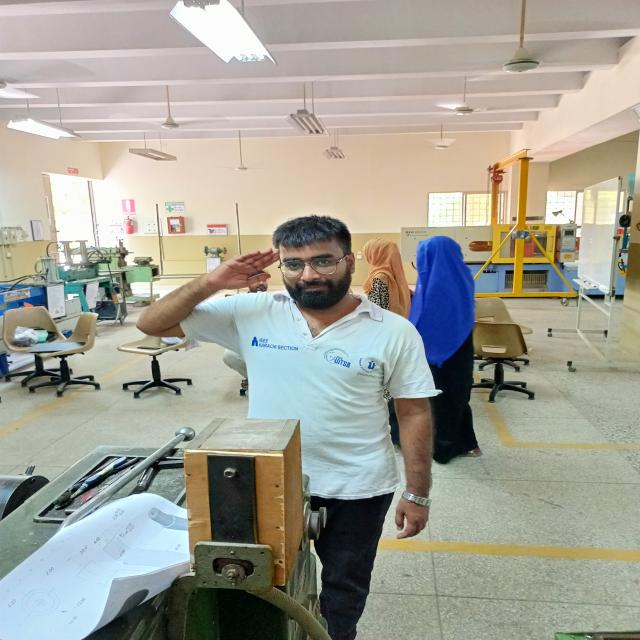dress: (177, 276, 450, 640), (396, 235, 491, 468), (359, 235, 413, 322)
glasses: (277, 255, 351, 278)
